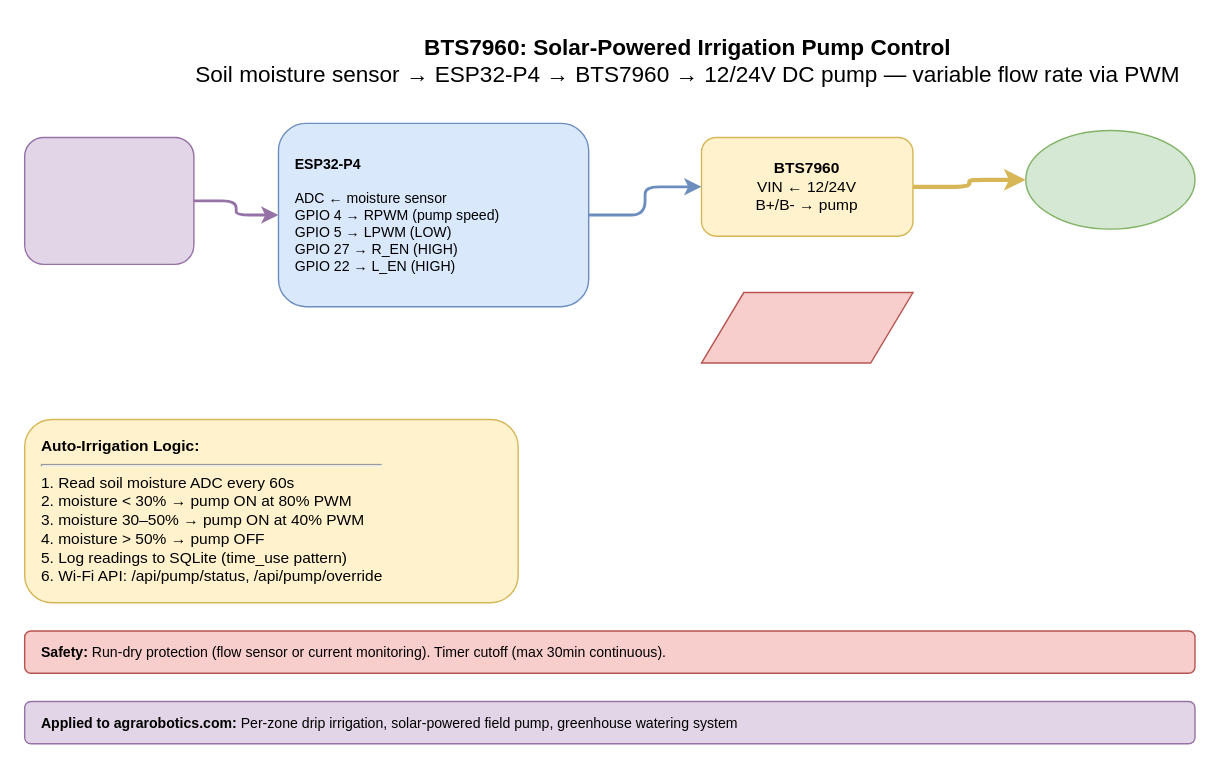
Image size: 1220x768. Some labels were removed from this diagram. The shapes that lost their labels are listed below. From the top down, each one's box as (x1, y1, x2, y2) in pixels, then its label:
(1024, 129, 1195, 229): DC Water Pump 12/24V
(23, 136, 194, 264): Soil Moisture Sensor (capacitive) → ADC input
(700, 291, 913, 363): Solar Panel + Battery 12/24V
